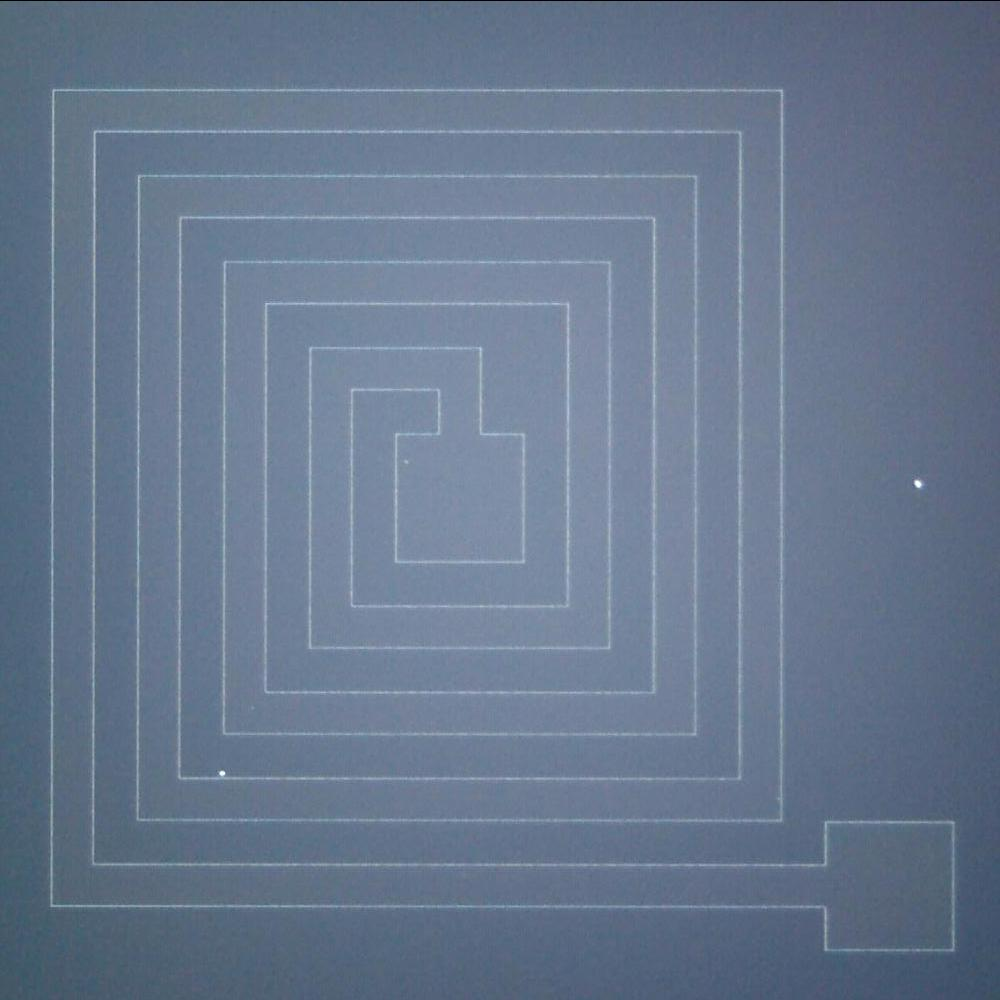dot: (903, 467, 933, 498), (207, 759, 238, 786)
